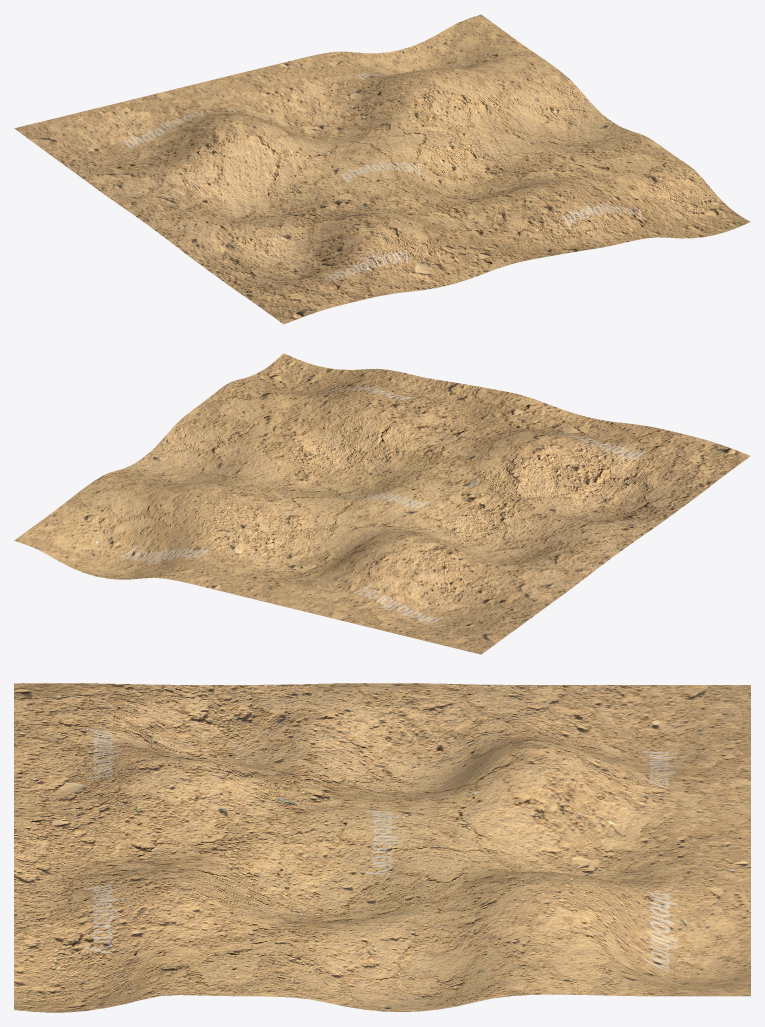
Rendered from Ground1.fbx.
3 renders of one model, top to bottom at view 1: azimuth 30°, elevation 25°; view 2: azimuth 150°, elevation 25°; view 3: azimuth 270°, elevation 25°, orthographic. The views are drawn at different scales.
Parts seen in each view (by area): view 1: pPlane1; view 2: pPlane1; view 3: pPlane1.
Part boxes in pixels (x1,y1,x2,y2): pPlane1: (14,14,750,324); pPlane1: (14,353,750,654); pPlane1: (14,683,750,1012).
Bounding box in the file's own units: 10 × 0.9294 × 10.
